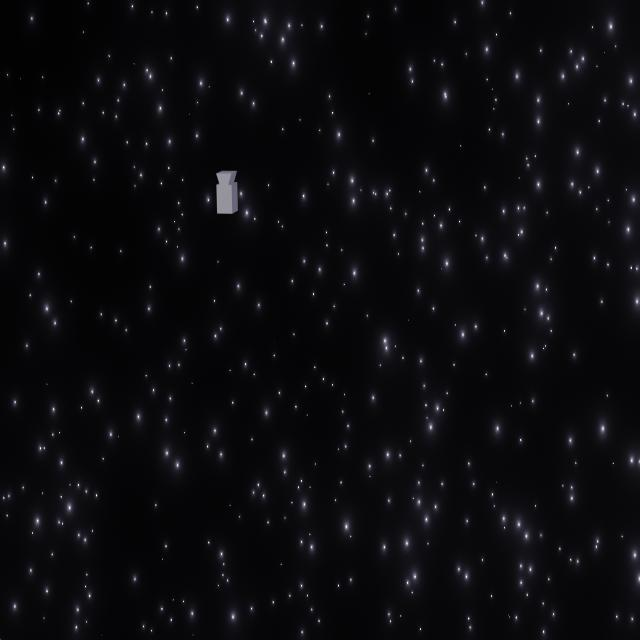large_debris: (213, 162, 242, 221)
